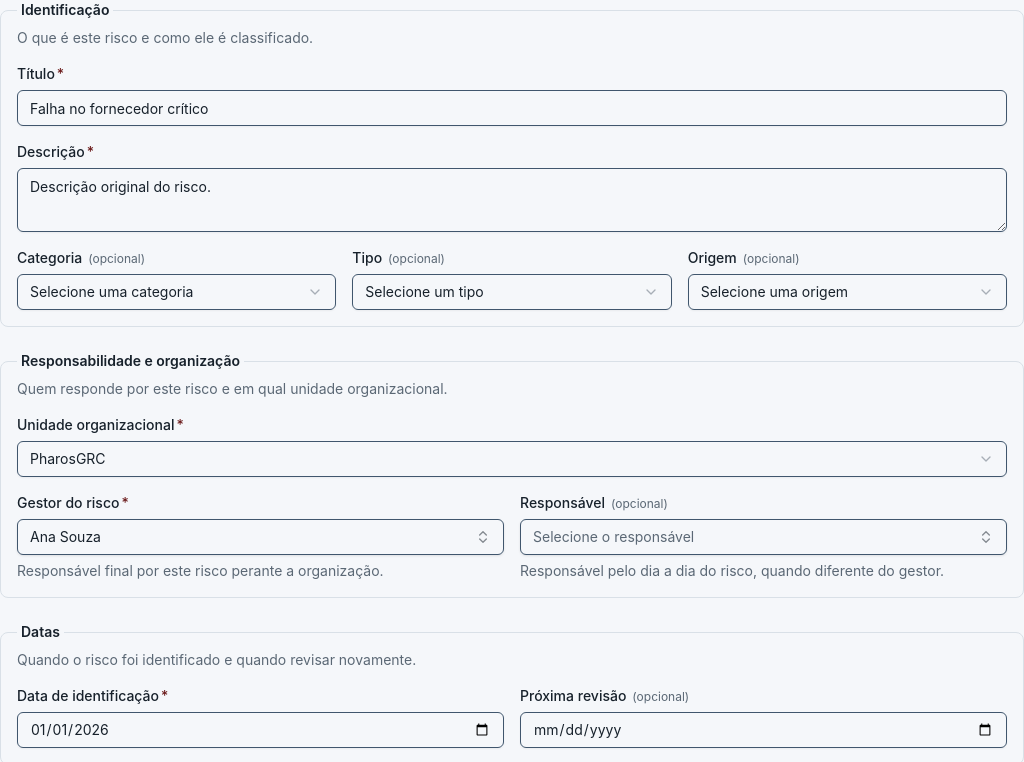
Test case: RiskForm › owner/responsible pickers use the ASSIGNMENT listing for the form’s selected org unit › clears an already-selected owner that the newly selected unit no longer assigns to, and says so visibly
The width and height of the screenshot is (1024, 762).
Expected: the field labelled "Título*" is enabled, [17,90,1007,126]
Click the dropdown named "Unidade organizacional": coordinates (68, 458) [17,441,1007,477]
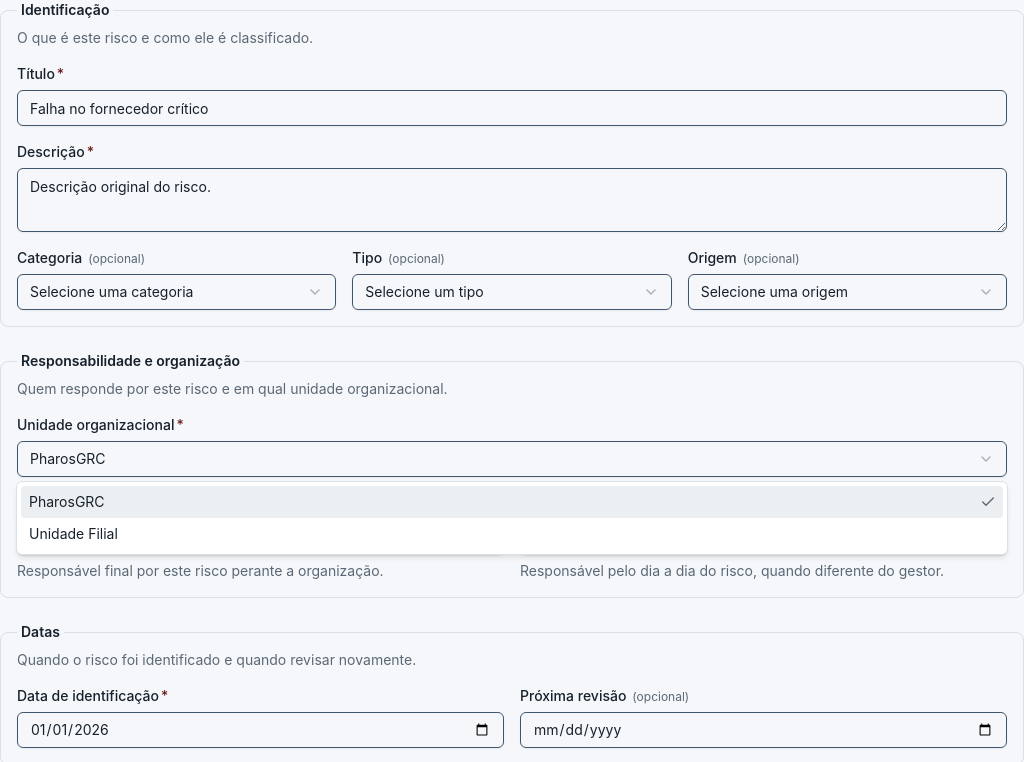
Click the option "Unidade Filial": coordinates (73, 534) [29,525,118,542]
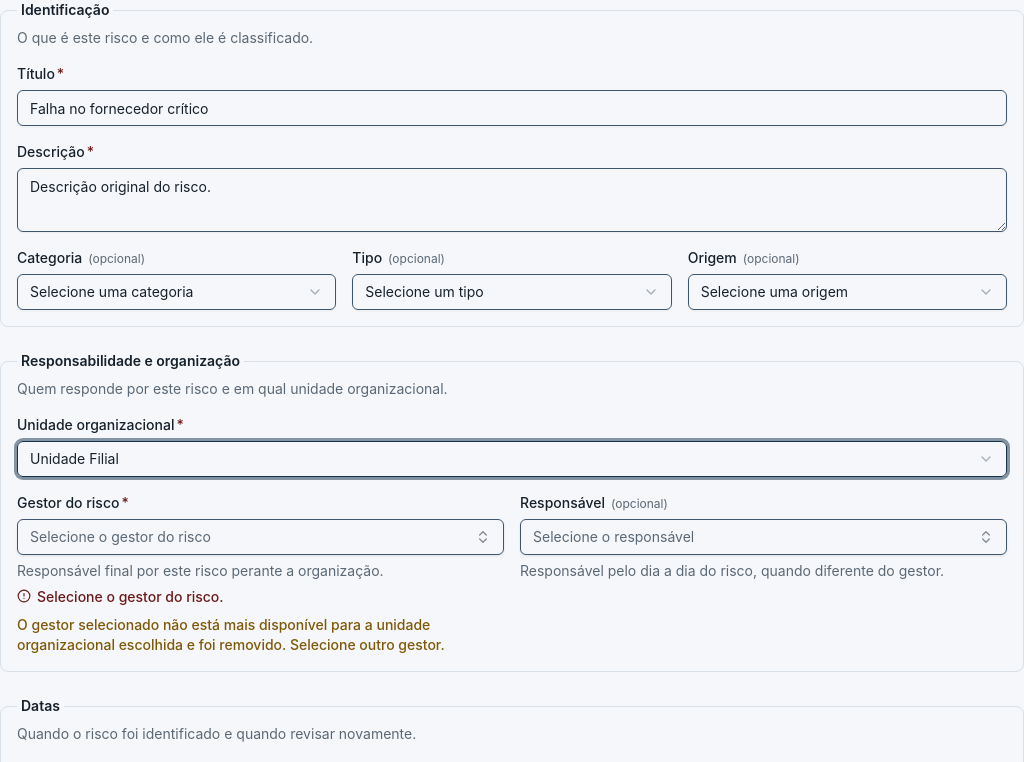
Result: the text "O gestor selecionado não está mais disponível para a unidade organizacional escolhida e foi removido. Selecione outro ge" is shown at [17,616,445,653]
Click the dropdown labelled "Selecione o gestor do risco": coordinates (120, 536) [17,519,504,555]
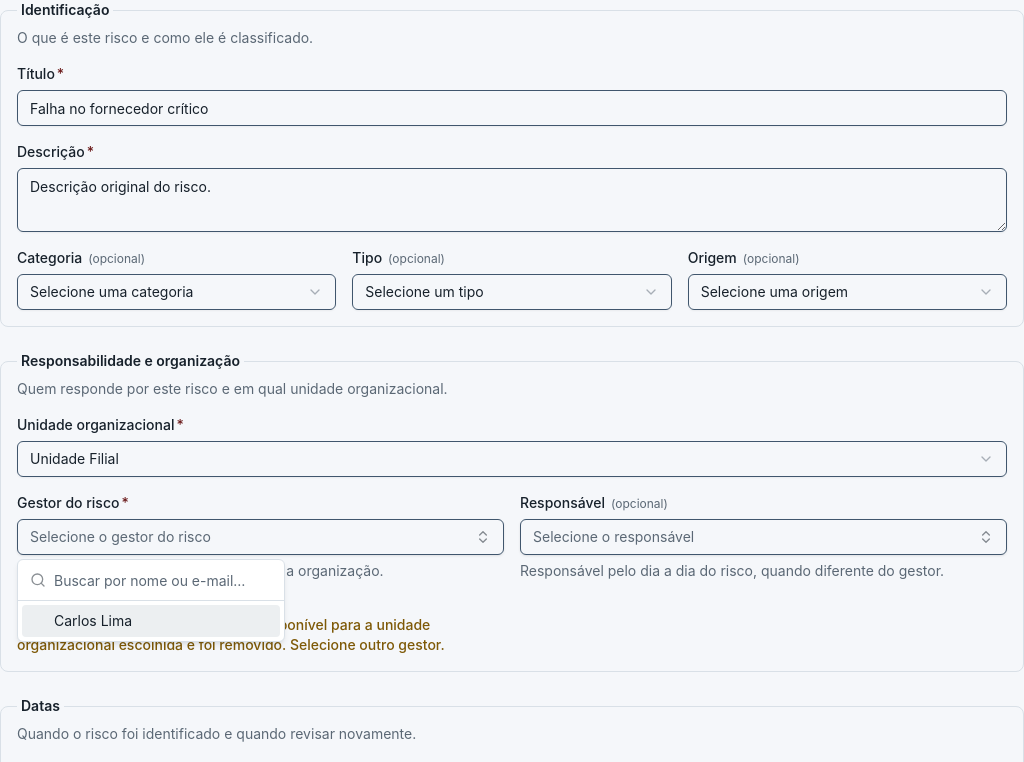
Expected: the dropdown labelled "Ana Souza" is not shown
Result: the option "Carlos Lima" is shown at [22,605,280,637]
